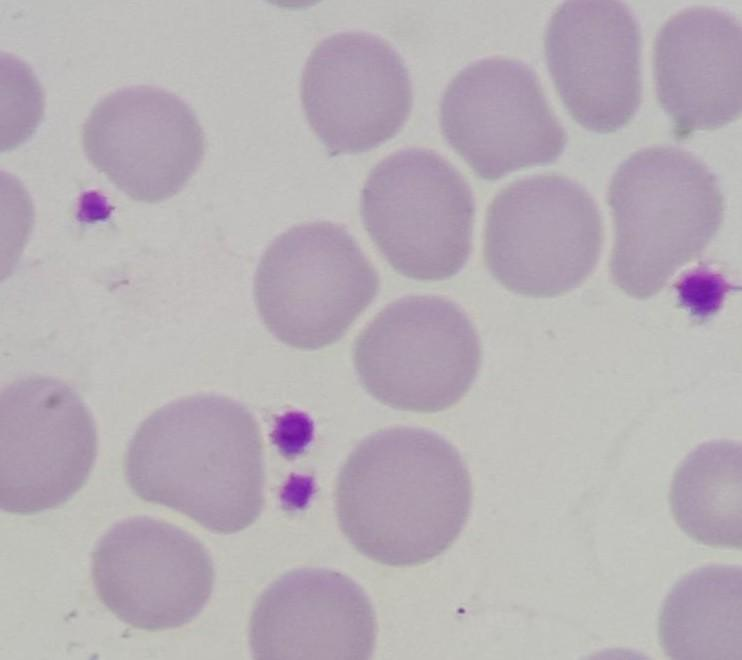Uninfected: (127, 393, 268, 537), (337, 422, 470, 568), (604, 140, 721, 296), (80, 82, 210, 209), (256, 220, 379, 353), (434, 59, 562, 182), (360, 148, 477, 282), (353, 296, 481, 416), (91, 515, 216, 634), (481, 172, 597, 300), (300, 34, 417, 154), (0, 376, 101, 515), (537, 0, 642, 133), (649, 3, 742, 135)
